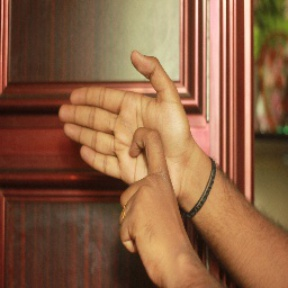R: (57, 46, 193, 218)
